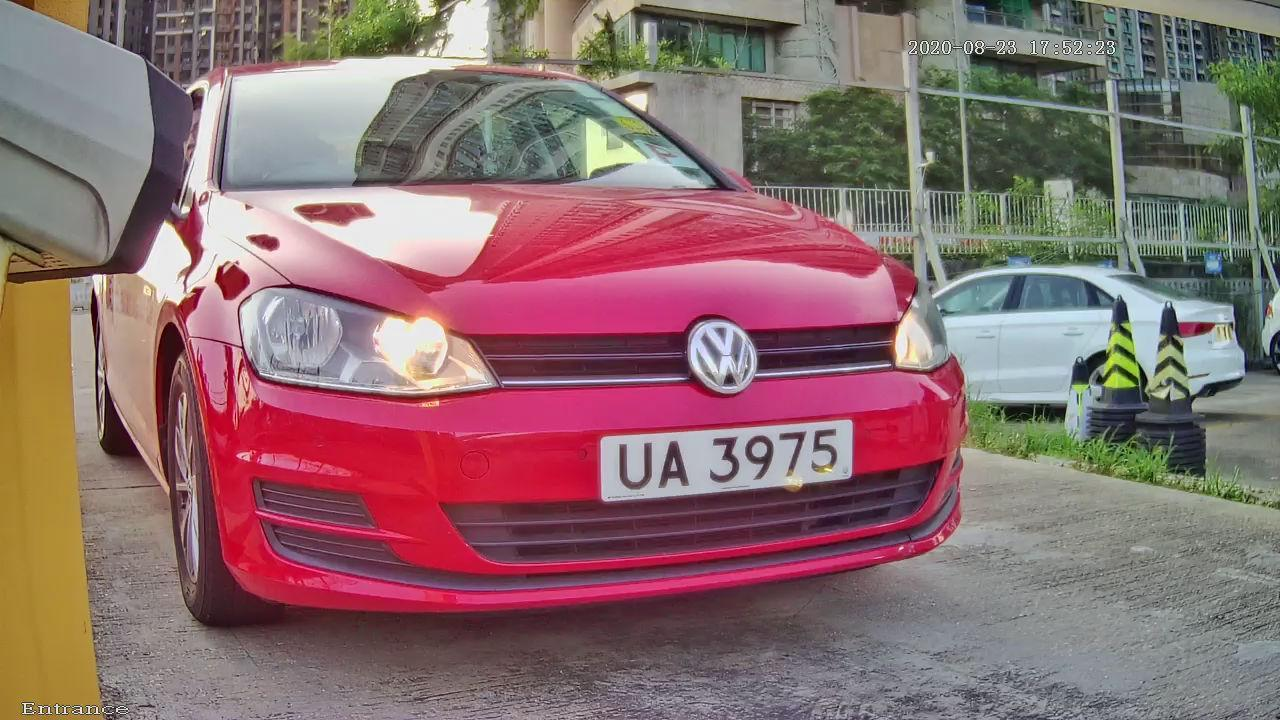Car: (75, 13, 1081, 669)
License Plate: (547, 373, 902, 548)
